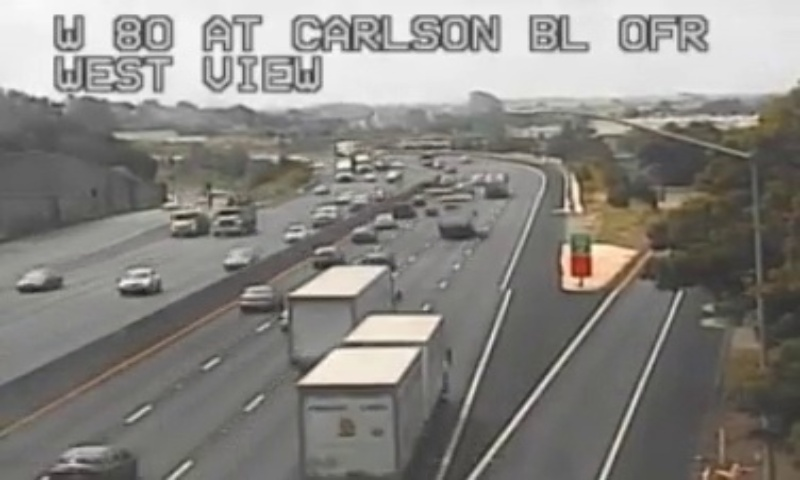car: (55, 443, 136, 480), (238, 285, 278, 312), (310, 245, 342, 268)
truck: (295, 312, 446, 480), (287, 265, 393, 371)
